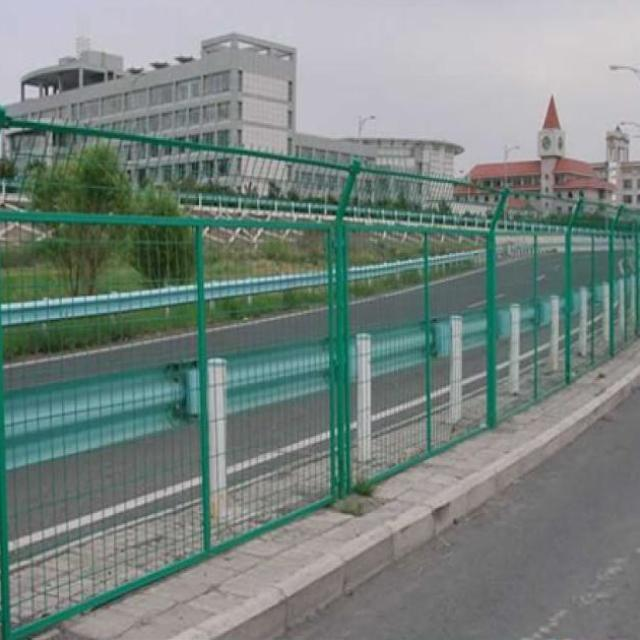Guard rail: (7, 363, 198, 471), (2, 287, 196, 327), (227, 339, 329, 414), (206, 273, 327, 301), (372, 322, 422, 378), (350, 260, 422, 280), (462, 314, 484, 347), (433, 252, 482, 265), (499, 309, 509, 339), (523, 306, 532, 331)
